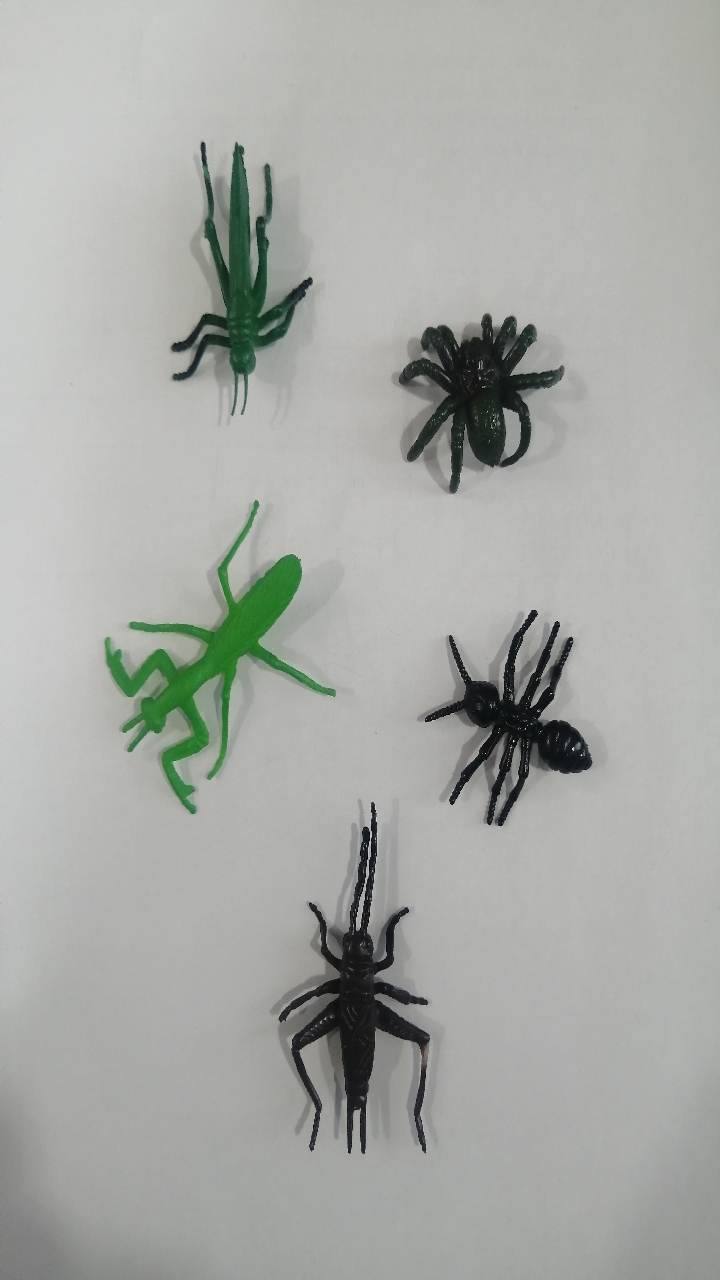intruso: (64, 457, 334, 840), (254, 792, 449, 1182), (392, 574, 608, 897), (141, 102, 318, 419), (374, 265, 568, 511)
